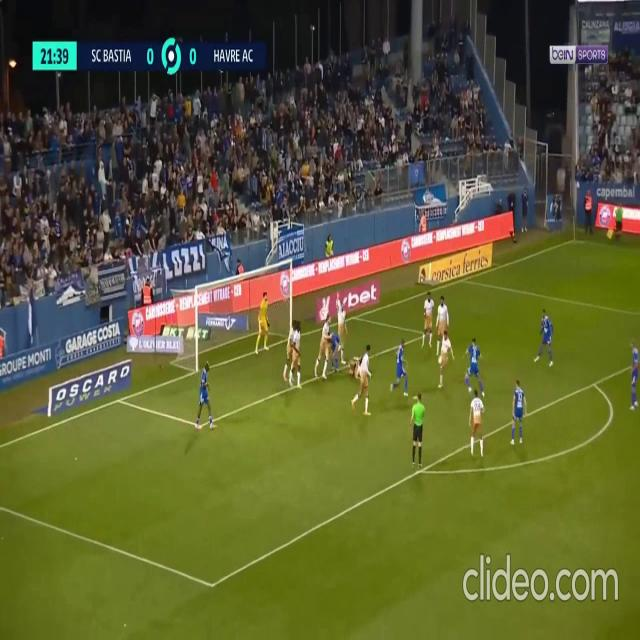player: (352, 352, 373, 418), (534, 307, 555, 367), (196, 361, 214, 428), (390, 340, 411, 394), (410, 391, 425, 466), (469, 387, 485, 457), (464, 337, 482, 395), (511, 378, 526, 447), (287, 323, 302, 385), (256, 298, 270, 351), (436, 299, 450, 350), (319, 312, 332, 362), (422, 294, 434, 348), (629, 347, 639, 409), (336, 300, 348, 349)
referee: (410, 392, 425, 467), (612, 204, 623, 242)
